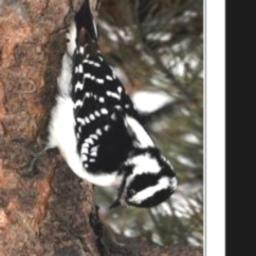Woodpecker: (21, 0, 178, 210)
